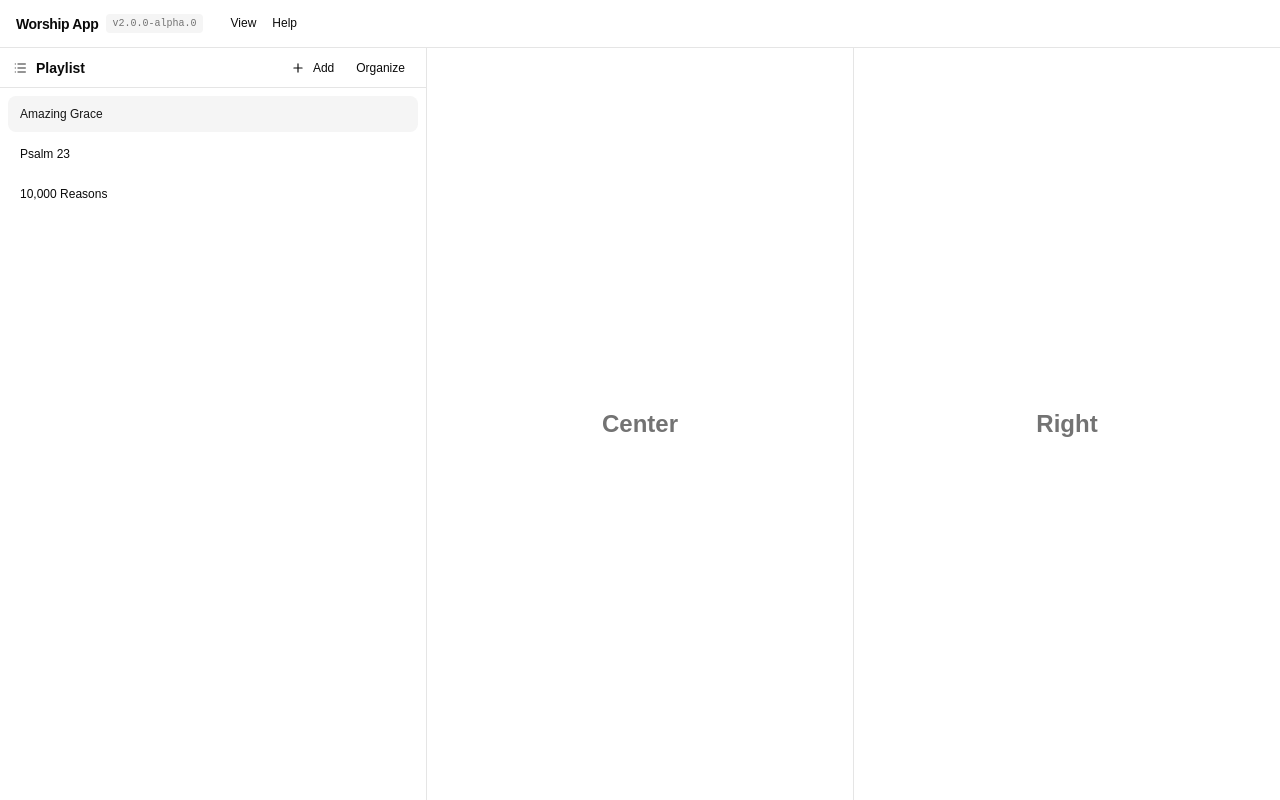
it: Workspace Center Panel Integration › automatically opens editor in center panel when adding an item
This screenshot has width=1280, height=800.
Expected: the text "Center" is shown, [602,408,678,440]
Click the button with aria-label "Add item". click: x=313, y=68
box: [282,54,343,82]
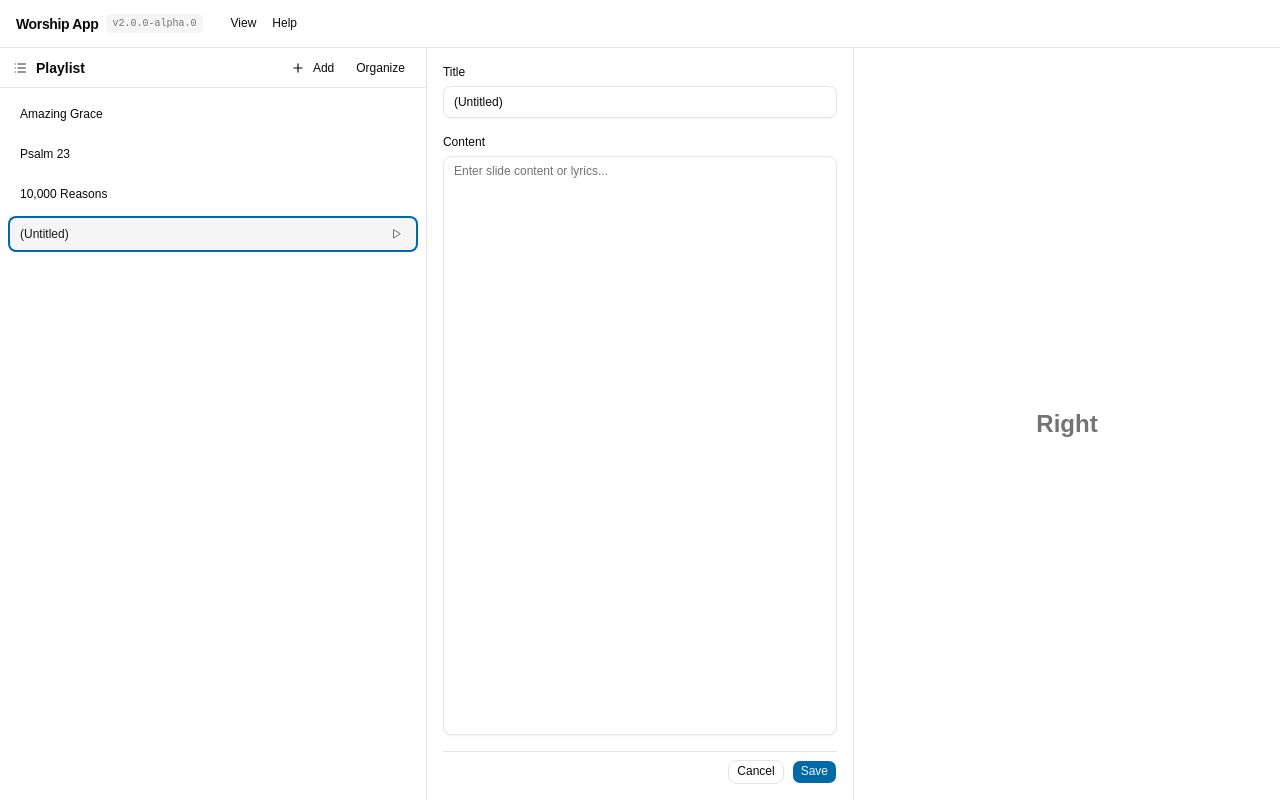
Now the text "Center" is gone
Now the form named "Edit playlist item" is shown, box [427,48,853,799]
Now the field labelled "Title" holds "(Untitled)", box [443,86,837,118]
